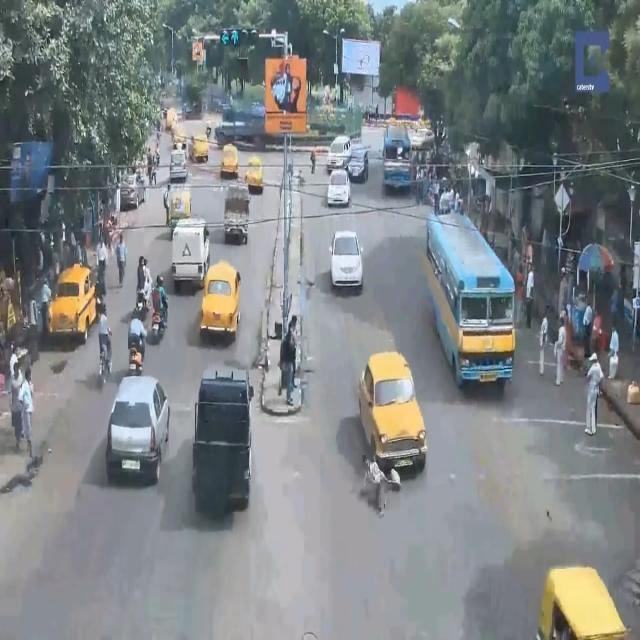accident: (344, 338, 443, 512)
